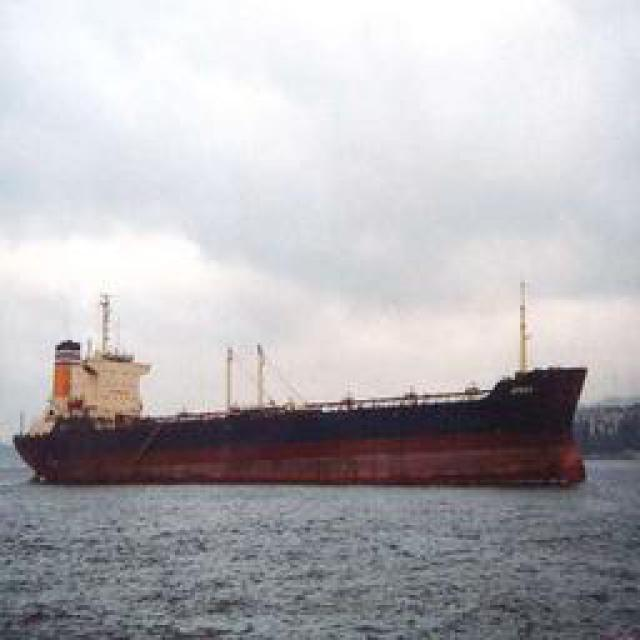Ship: (18, 379, 593, 489)
